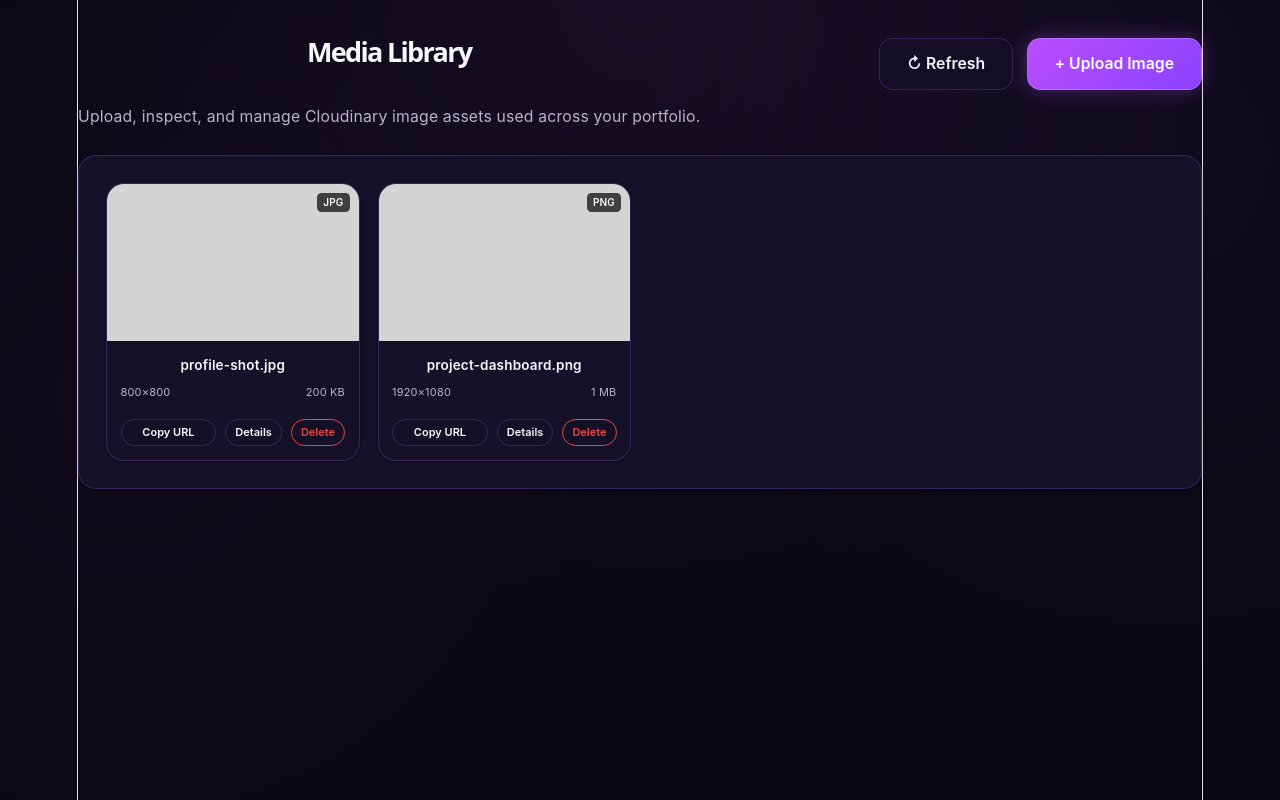
Test: MediaLibrary Component (src/pages/admin/MediaLibrary.jsx) › 7. Handles deletion failure when referenced by Profile or Project (HTTP 409)
Expected: the text "profile-shot.jpg" is shown, [180,357,285,373]
Click the button "Delete" below "800×800".
click(318, 432)  # box [291,419,345,446]
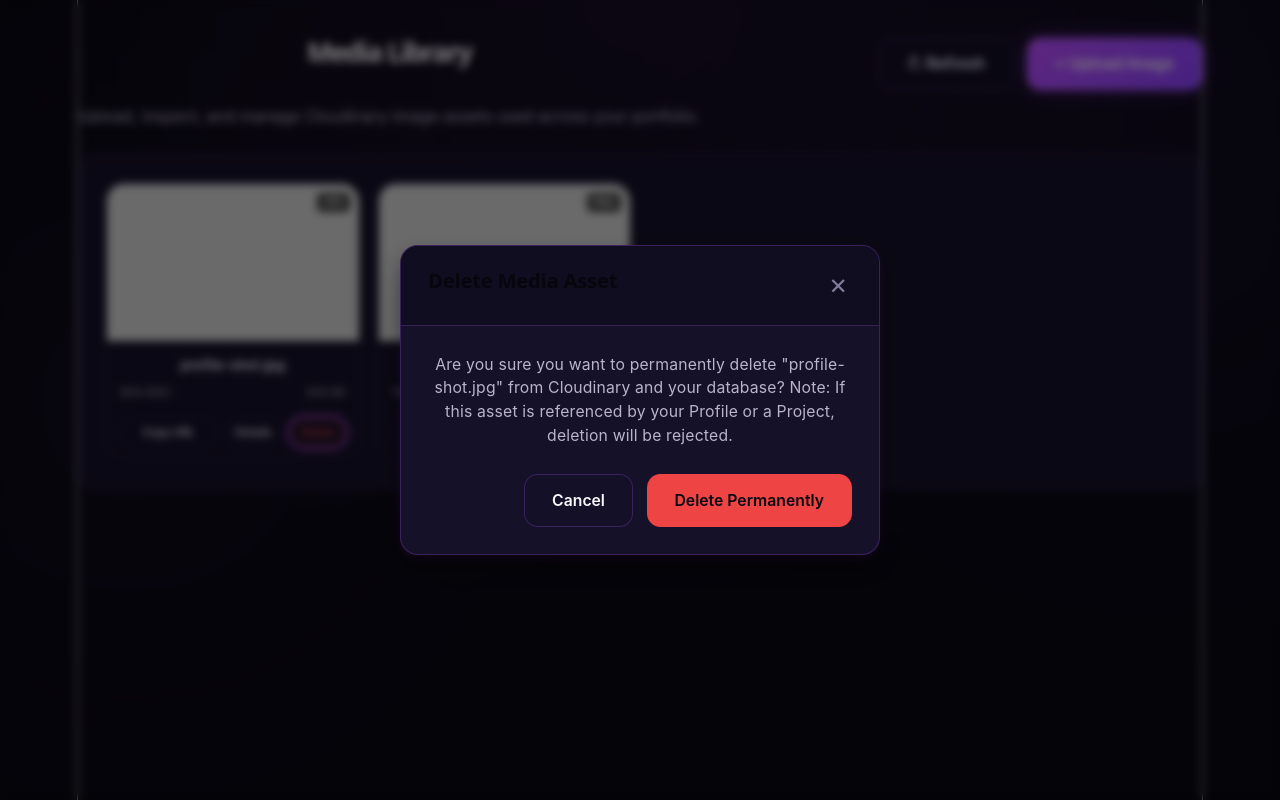
Click the button "Delete Permanently".
click(749, 501)  # box [646,474,852,527]
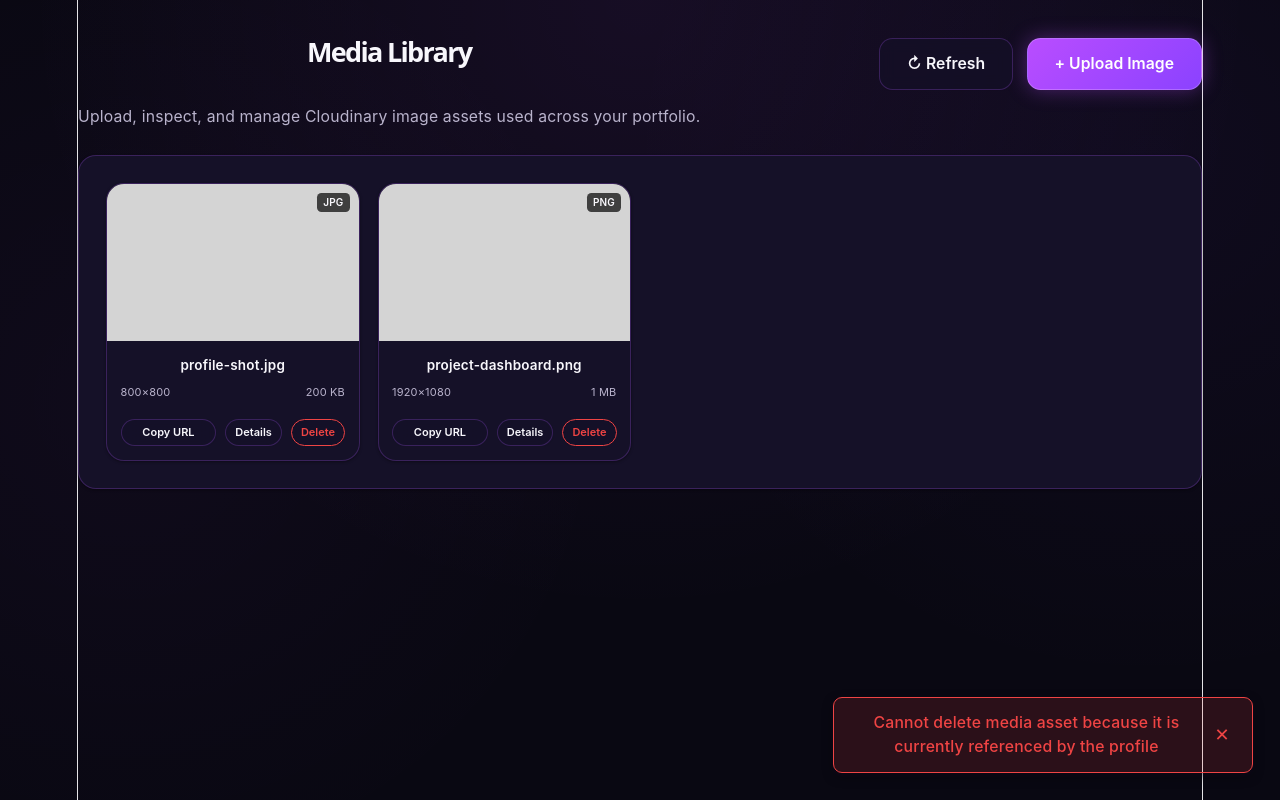
Result: the text "Cannot delete media asset because it is currently referenced by the profile" is shown at [856,711,1196,759]
